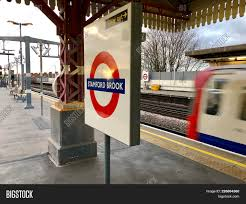London Underground: (85, 52, 123, 118)
